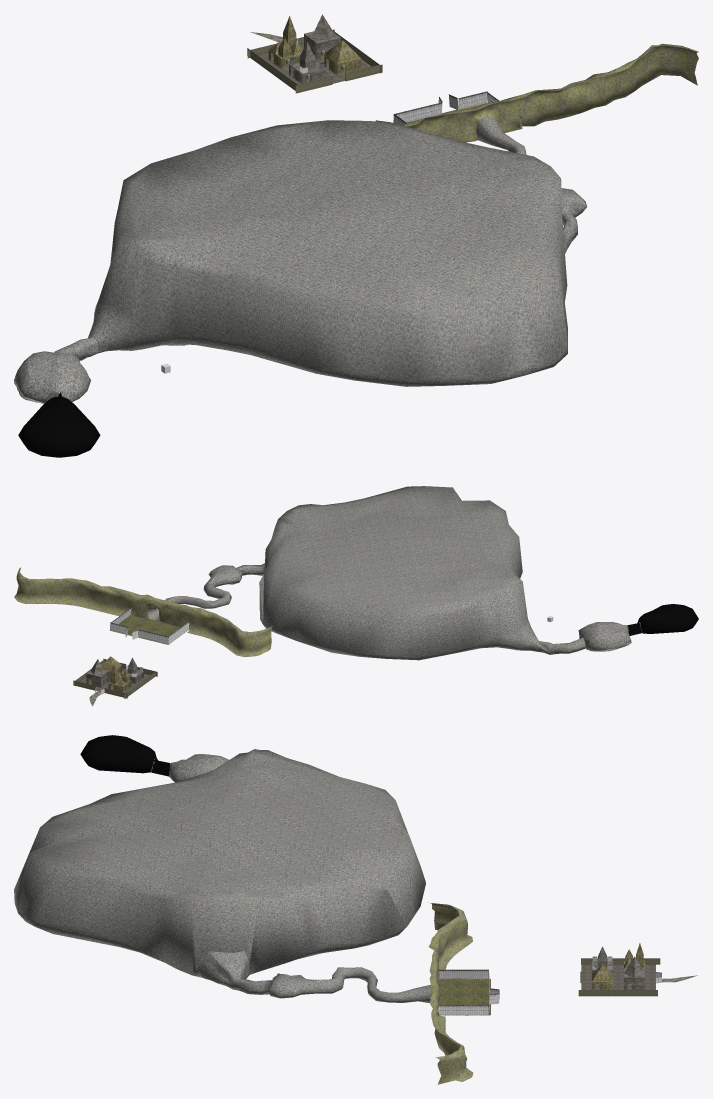
File: Greybox 04.FBX
3 renders of one model, top to bottom at view 1: azimuth 30°, elevation 25°; view 2: azimuth 150°, elevation 25°; view 3: azimuth 270°, elevation 25°, orthographic. The views are drawn at different scales.
Visible parts, largest first — view 1: Cylinder001, cliff face, Plane020, Void room, Second room cave, Big cave exit room, cave exit tunnel, Plane025; view 2: Cylinder001, cliff face, Void room, Plane020, Second room cave, cave exit tunnel, Big cave exit room, Plane001, Tunnel 01; view 3: Cylinder001, cliff face, Big cave exit room, Void room, Plane020, cave exit tunnel, Plane001, Second room cave, Plane023, Plane027.
Part boxes in pixels (<box>): Cylinder001: <box>88,120,567,386</box>; cliff face: <box>401,44,698,141</box>; Plane020: <box>258,14,371,84</box>; Void room: <box>18,392,100,457</box>; Second room cave: <box>14,351,90,403</box>; Big cave exit room: <box>561,188,587,253</box>; cave exit tunnel: <box>476,116,526,154</box>; Plane025: <box>295,64,382,93</box>; Cylinder001: <box>259,486,539,660</box>; cliff face: <box>14,567,273,657</box>; Void room: <box>627,604,698,635</box>; Plane020: <box>80,656,149,693</box>; Second room cave: <box>578,622,631,650</box>; cave exit tunnel: <box>147,578,231,620</box>; Big cave exit room: <box>208,563,264,586</box>; Plane001: <box>110,615,180,644</box>; Tunnel 01: <box>538,637,585,654</box>; Cylinder001: <box>14,749,425,977</box>; cliff face: <box>428,902,473,1084</box>; Big cave exit room: <box>197,951,317,998</box>; Void room: <box>80,735,169,776</box>; Plane020: <box>581,943,655,989</box>; cave exit tunnel: <box>316,967,432,1002</box>; Plane001: <box>438,978,490,1015</box>; Second room cave: <box>169,754,228,782</box>; Plane023: <box>578,990,657,996</box>; Plane027: <box>438,1005,488,1015</box>.
Bounding box in the file's own units: 26820 × 3235 × 22917.
